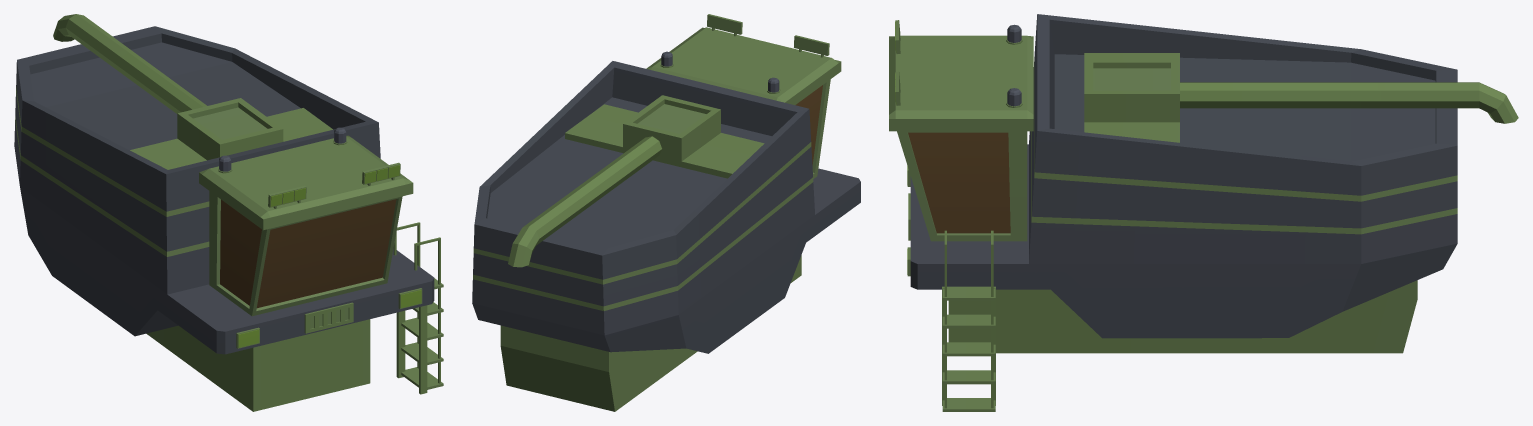
File: Harvester_01.fbx
3 views of the same model, side by side, from view 1: azimuth 30°, elevation 25°; view 2: azimuth 150°, elevation 25°; view 3: azimuth 270°, elevation 25° (orthographic). The views are drawn at different scales.
Visible parts, largest first — view 1: Harvester_01; view 2: Harvester_01; view 3: Harvester_01.
Part boxes in pixels (bbox=[...]): Harvester_01: bbox=[14, 14, 443, 411]; Harvester_01: bbox=[472, 14, 860, 411]; Harvester_01: bbox=[889, 14, 1518, 411].
Bounding box in the file's own units: 3.07 × 3.15 × 6.24.
